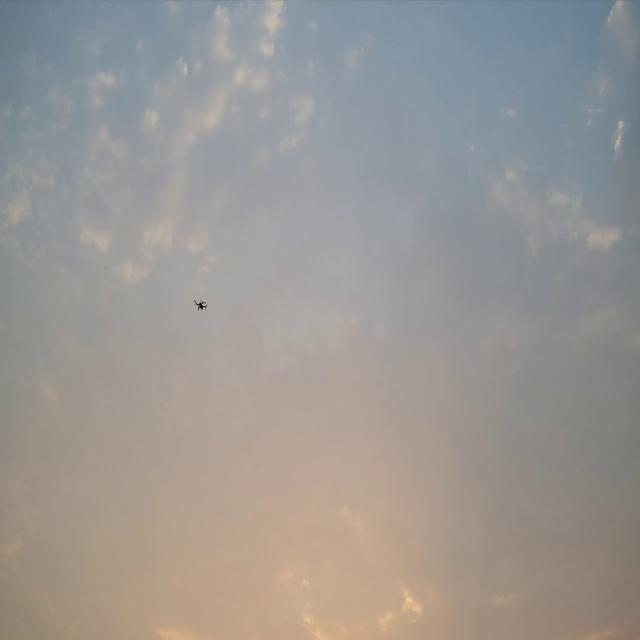UAV: (193, 299, 208, 311)
